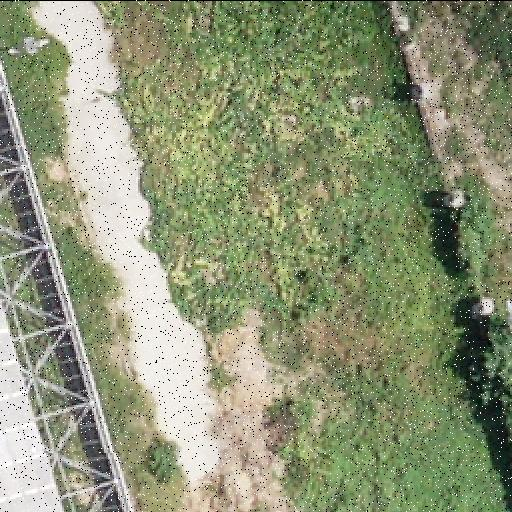solar-panel: (0, 312, 60, 512)
